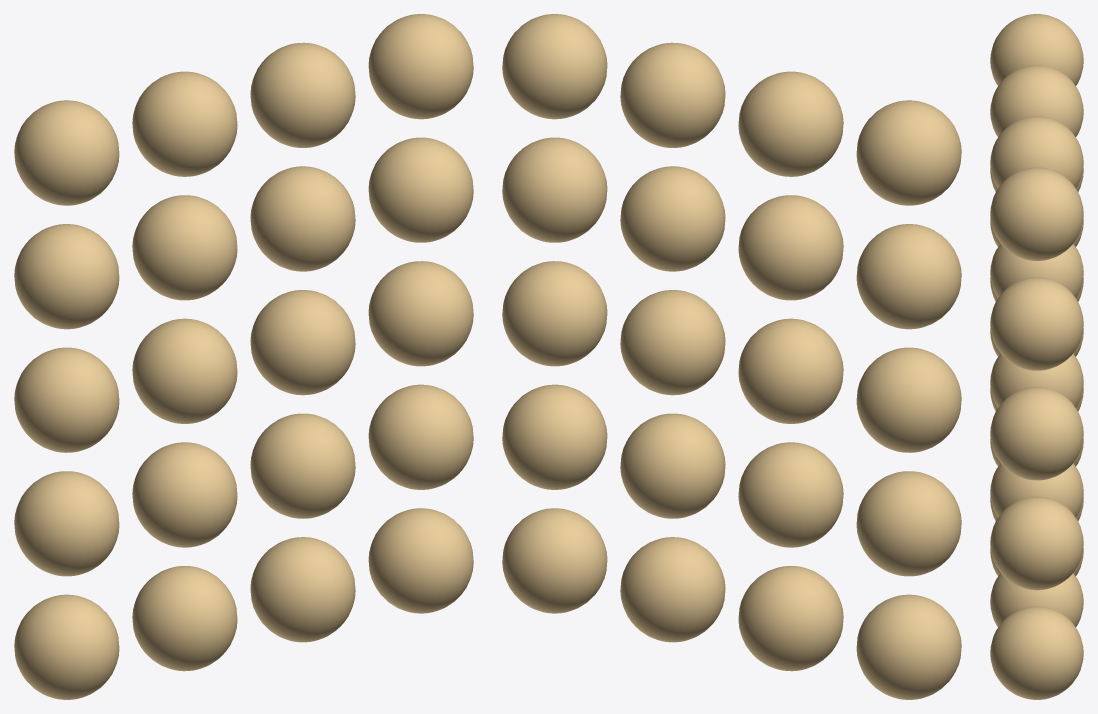
File: metal-roughness-swatch.glb
3 renders of one model, left to right at view 1: azimuth 30°, elevation 25°; view 2: azimuth 150°, elevation 25°; view 3: azimuth 270°, elevation 25°, orthographic. The views are drawn at different scales.
Bounding box in the file's own units: 1.66 × 2.1 × 0.34.
